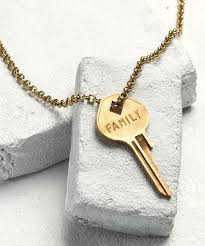kicharina: (91, 92, 173, 201)
